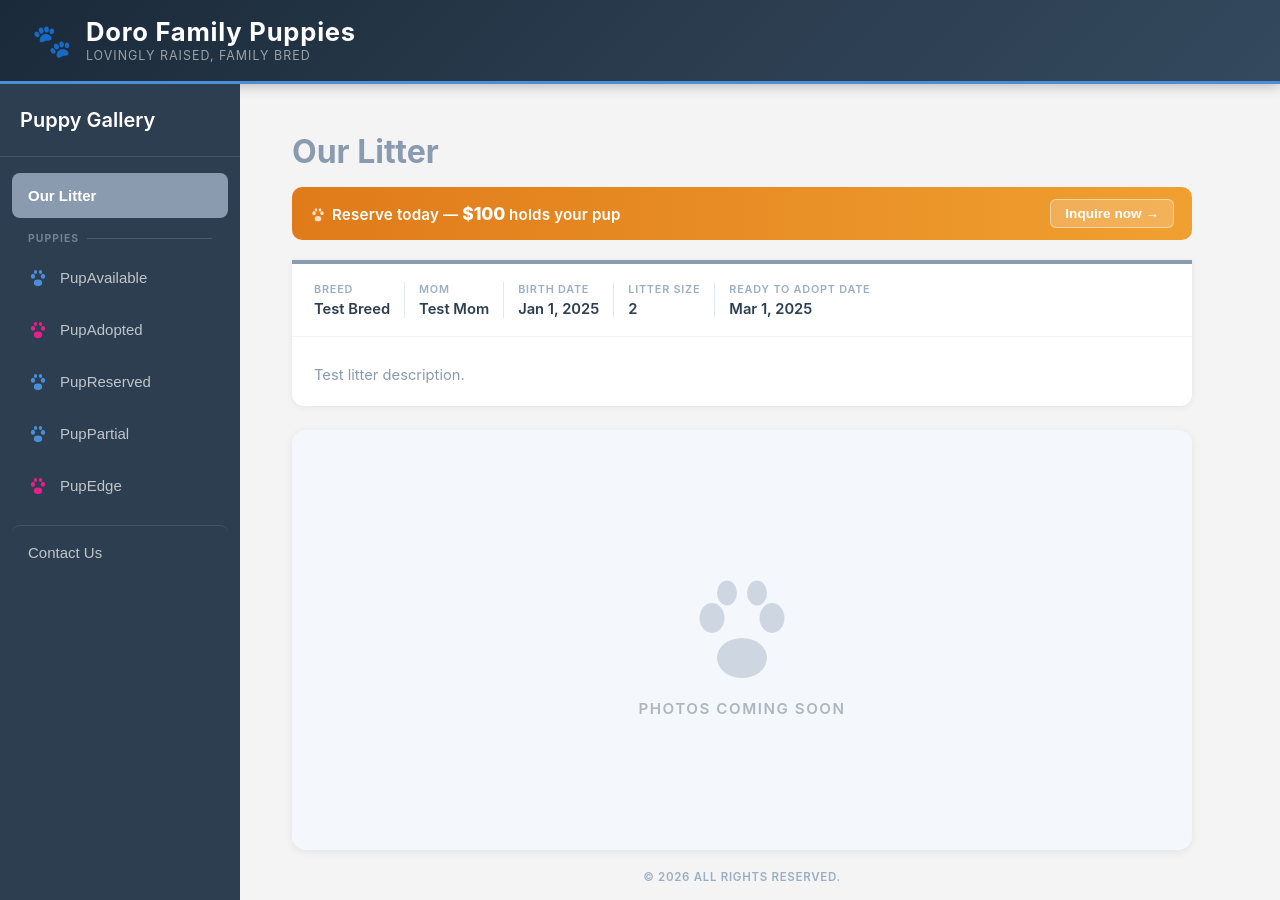
Test: Puppy details › reserved puppy shows Reserved badge and not Available Soon
Click the button "PupReserved" at coordinates (120, 381), box [12,357,228,405]
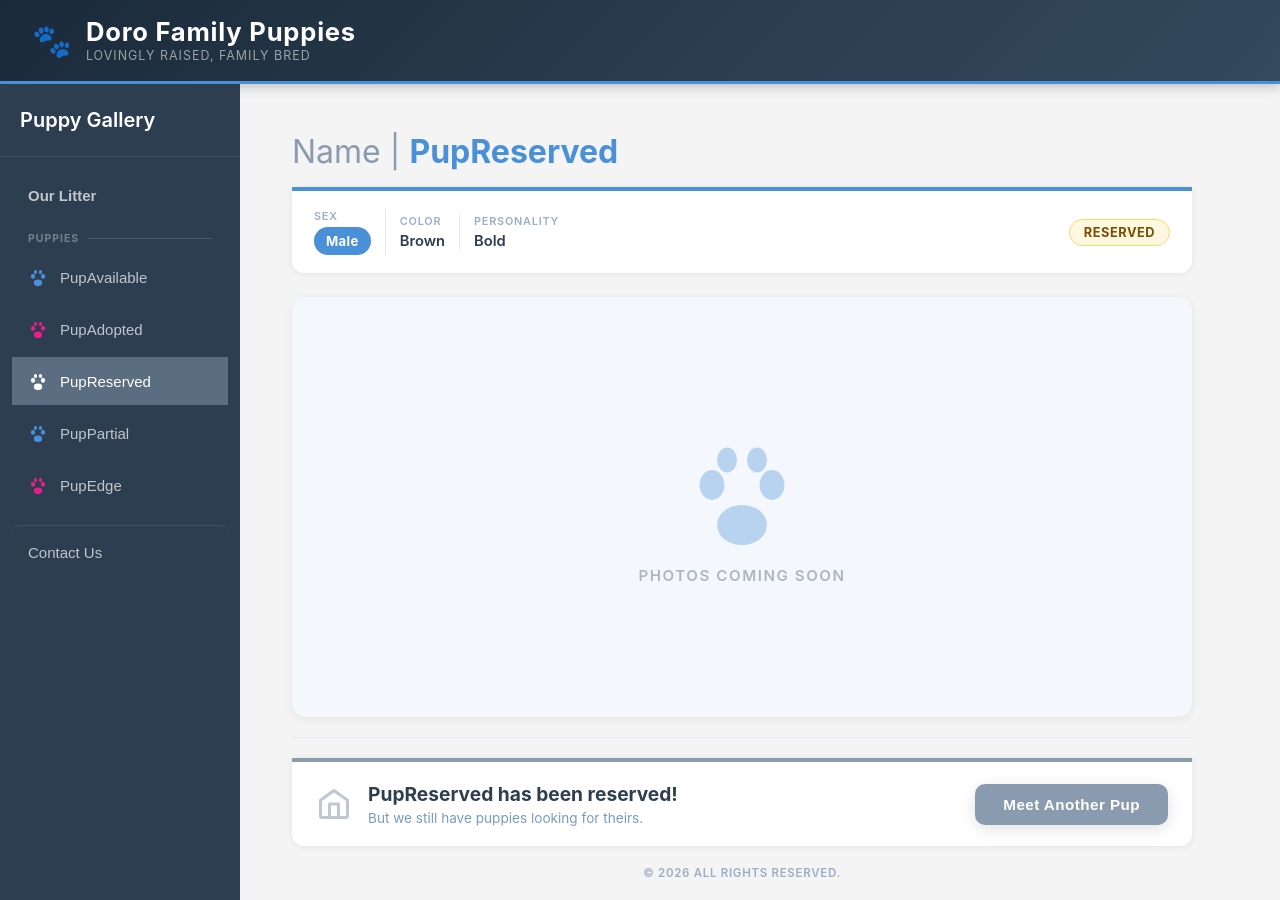
Result: the text "Reserved" is shown at [1069,219,1170,246]
